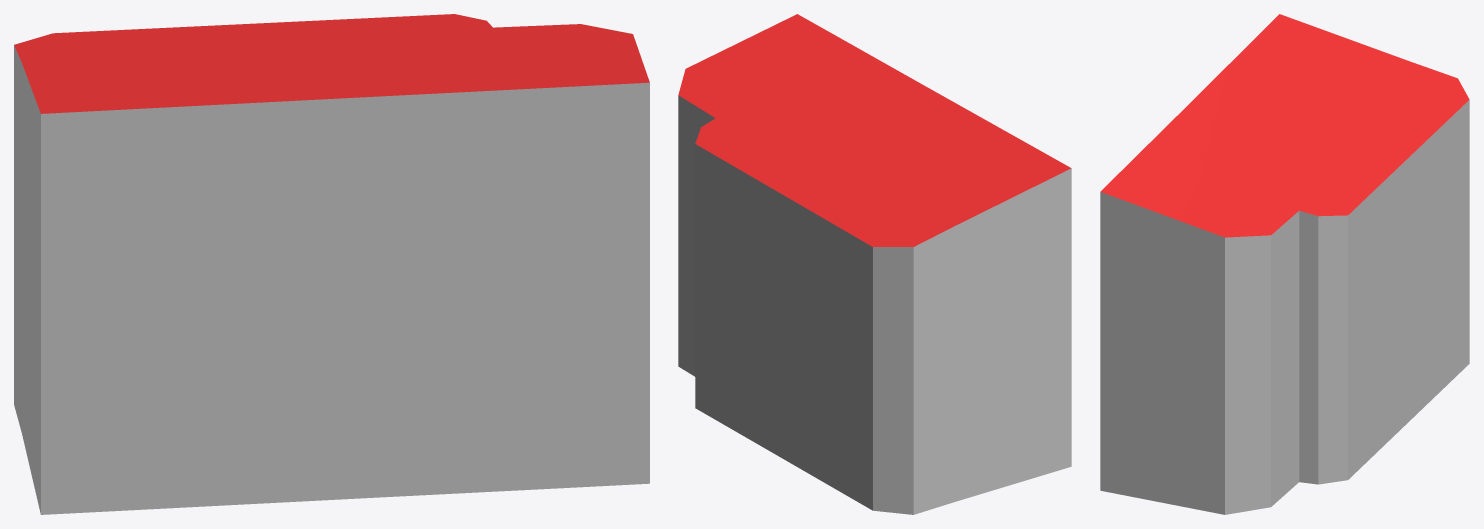
File: DEBY_LOD2_4908150.dae
3 views of the same model, side by side, from view 1: azimuth 30°, elevation 25°; view 2: azimuth 150°, elevation 25°; view 3: azimuth 270°, elevation 25° (orthographic). The views are drawn at different scales.
Bounding box in the file's own units: 15.15 × 11.7 × 10.45.
